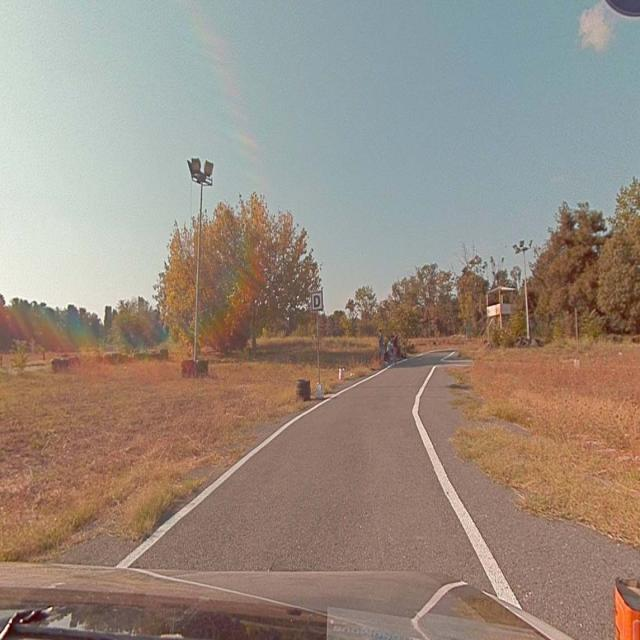durak: (312, 292, 323, 310)
